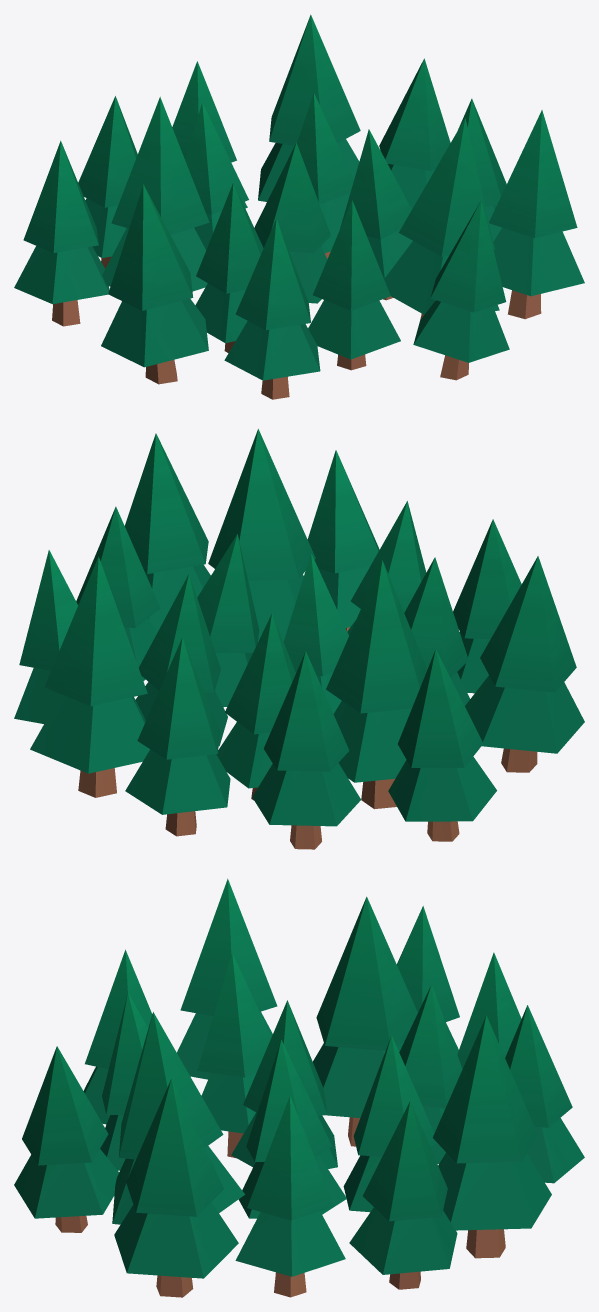
Rendered from kay-bosque-grande.gltf.
3 renders of one model, top to bottom at view 1: azimuth 30°, elevation 25°; view 2: azimuth 150°, elevation 25°; view 3: azimuth 270°, elevation 25°, orthographic. The views are drawn at different scales.
Parts seen in each view (by area): view 1: trees_A_large; view 2: trees_A_large; view 3: trees_A_large.
Part boxes in pixels (bbox=[...]): trees_A_large: bbox=[14, 14, 584, 399]; trees_A_large: bbox=[14, 429, 584, 849]; trees_A_large: bbox=[14, 878, 584, 1297].
Size of the model in its own units: 9.73 by 4.63 by 9.83.
Materials: 1 (1 with a texture image).
